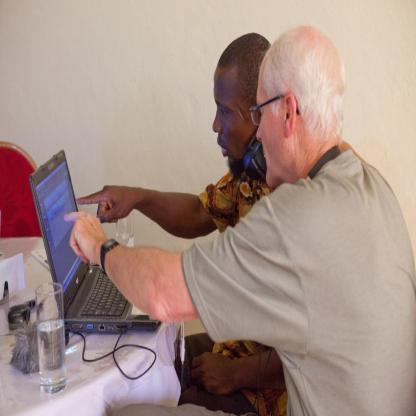board: (21, 166, 145, 359)
